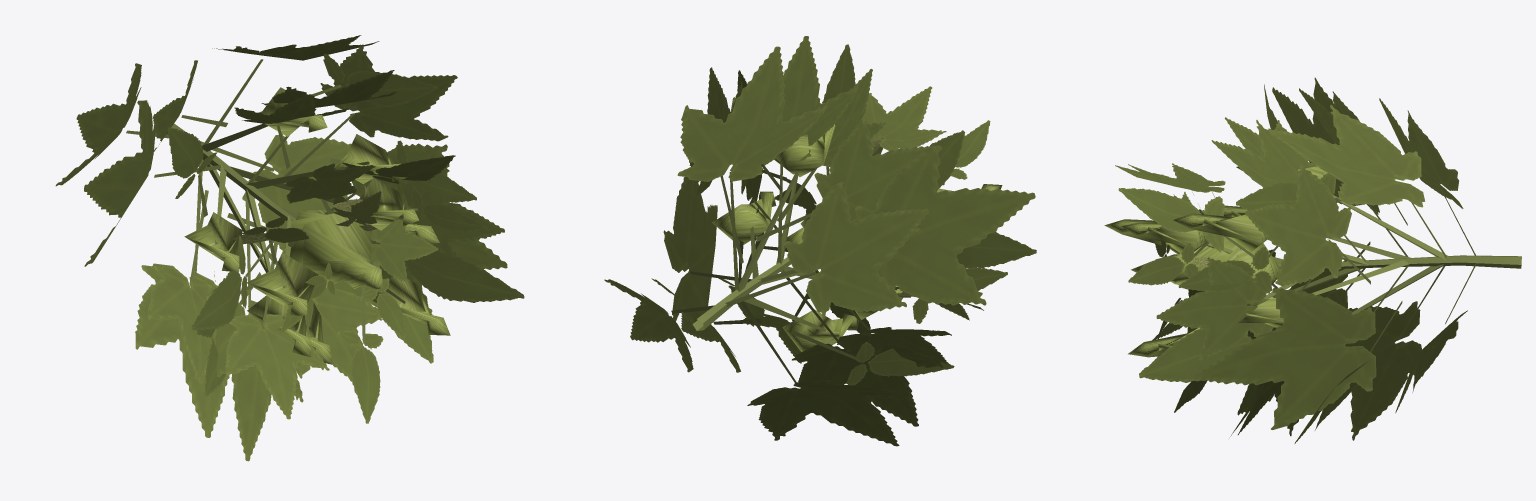
Rendered from p_afghan_flowering_c1_cards.obj.
The picture shows the model from 3 angles, left to right: view 1: azimuth 30°, elevation 25°; view 2: azimuth 150°, elevation 25°; view 3: azimuth 270°, elevation 25°; orthographic projection. The views are drawn at different scales.
Size of the model in its own units: 1.41 by 1.38 by 1.25.
1 material, 1 textured.
